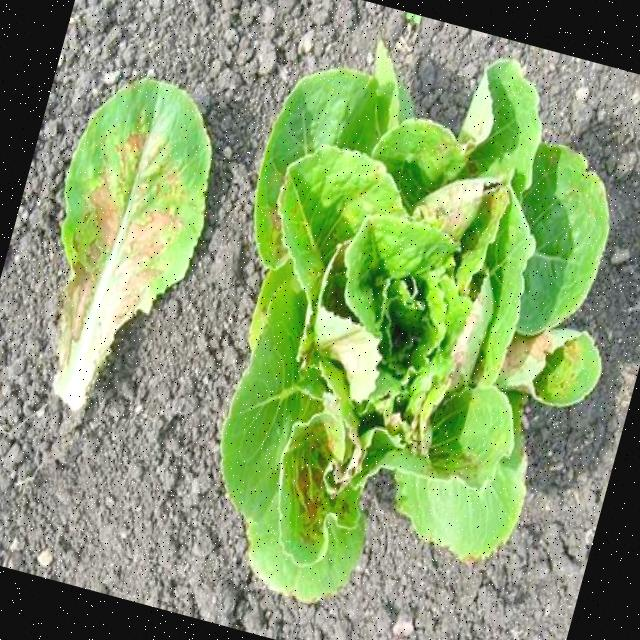Wilt_and_leaf_blight_on_lettuce: (228, 105, 584, 548), (11, 73, 222, 433)
